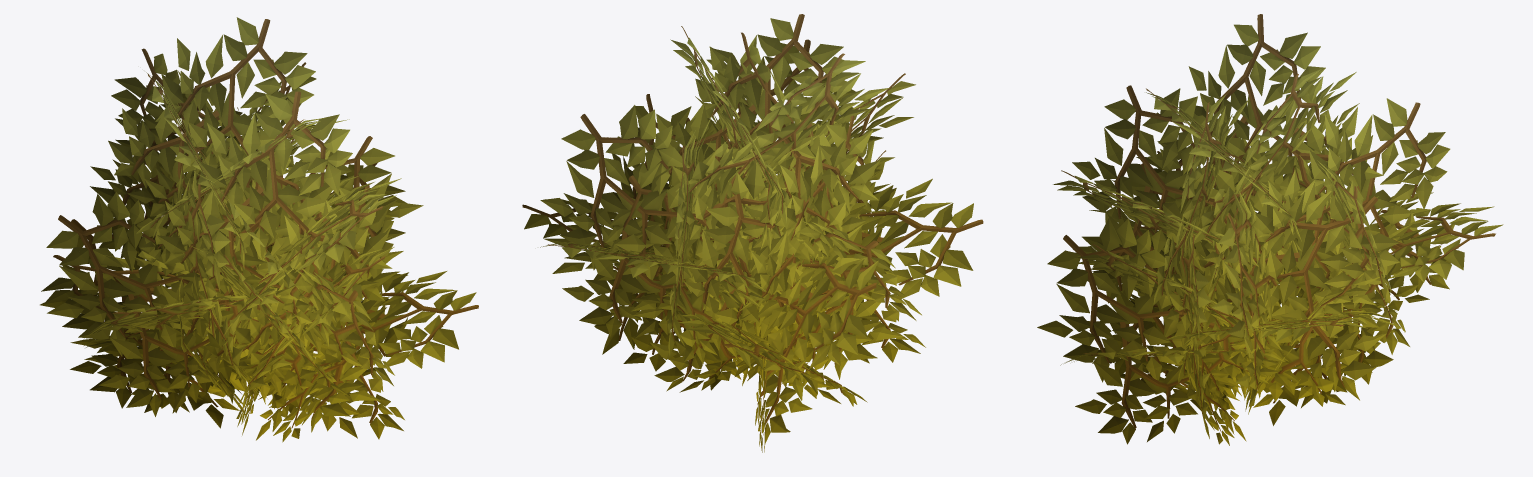
The model's file is synty-plant-bush-leaves-03.gltf.
3 views of the same model, side by side, from view 1: azimuth 30°, elevation 25°; view 2: azimuth 150°, elevation 25°; view 3: azimuth 270°, elevation 25° (orthographic). The views are drawn at different scales.
Parts seen in each view (by area): view 1: SM_Plant_Bush_Leaves_03; view 2: SM_Plant_Bush_Leaves_03; view 3: SM_Plant_Bush_Leaves_03.
Boxes of the visible parts, box(x1,y1,x2,y2) form: SM_Plant_Bush_Leaves_03: box(40, 17, 478, 442); SM_Plant_Bush_Leaves_03: box(522, 14, 983, 452); SM_Plant_Bush_Leaves_03: box(1037, 14, 1503, 445).
Bounding box in the file's own units: 1.62 × 1.52 × 1.74.
Materials: 1 (1 with a texture image).
